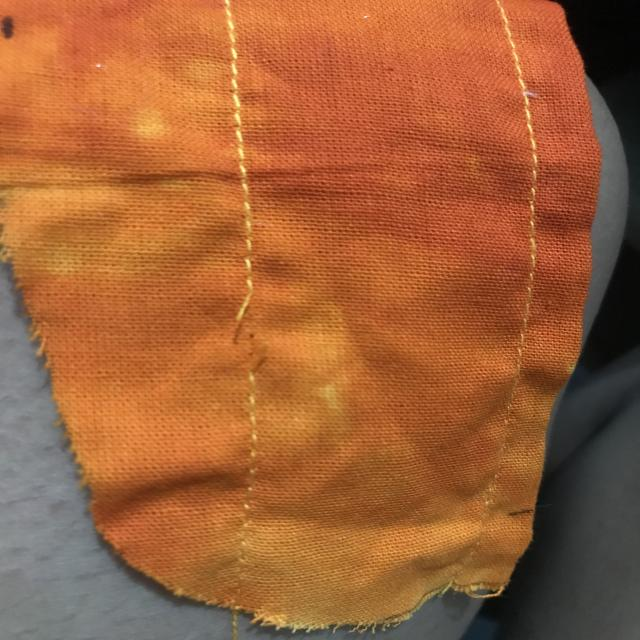broken: (226, 267, 294, 389)
good: (205, 87, 278, 235)
